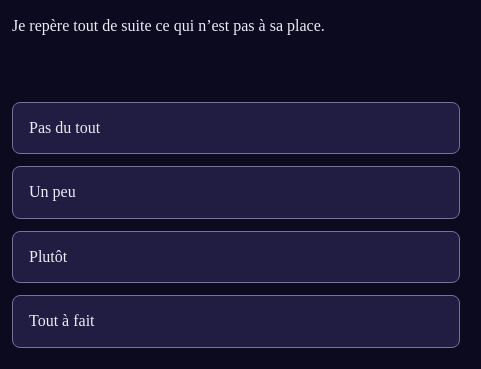
Test: [5.5/AC1] une question à la fois, reprise là où elle s’était arrêtée › [LE CŒUR] le focus ne retombe JAMAIS sur <body> après une réponse
Click the button "Tout à fait" at x=62, y=321, box [12,295,460,348]
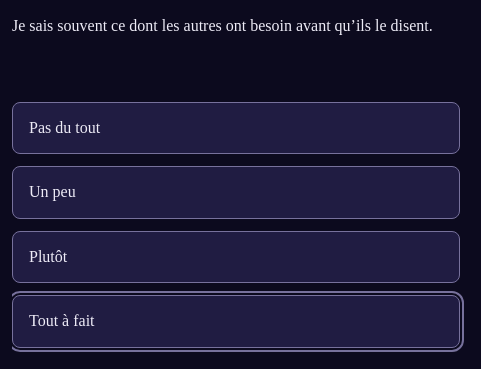
Now the text "Je sais souvent ce dont les autres ont besoin avant qu’ils le disent." is shown, box [12,17,433,34]
